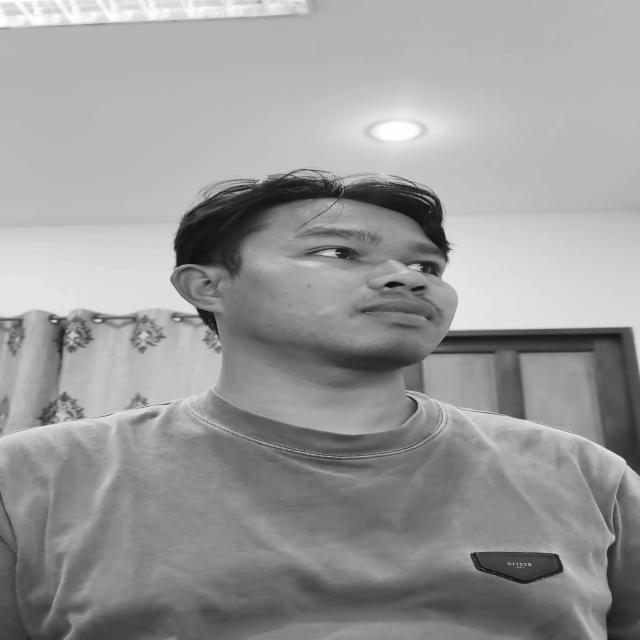ear: (170, 264, 228, 313)
